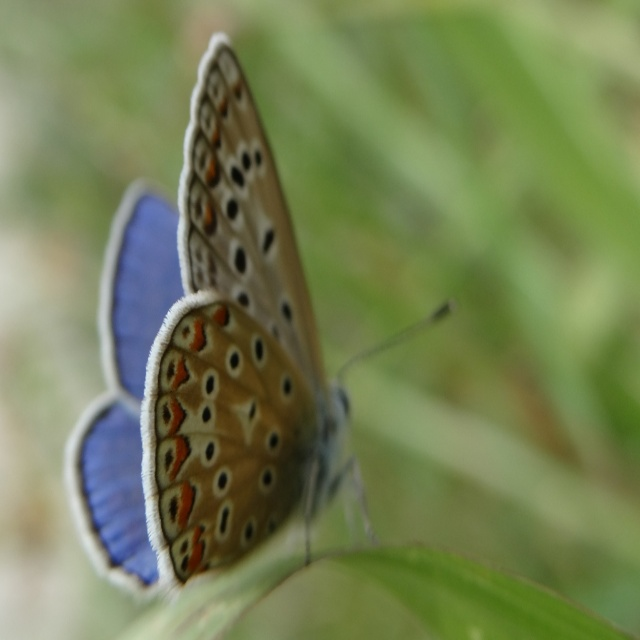Butterfly: (86, 45, 458, 637)
